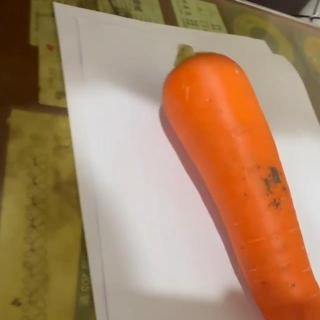carrot: (162, 43, 320, 320)
